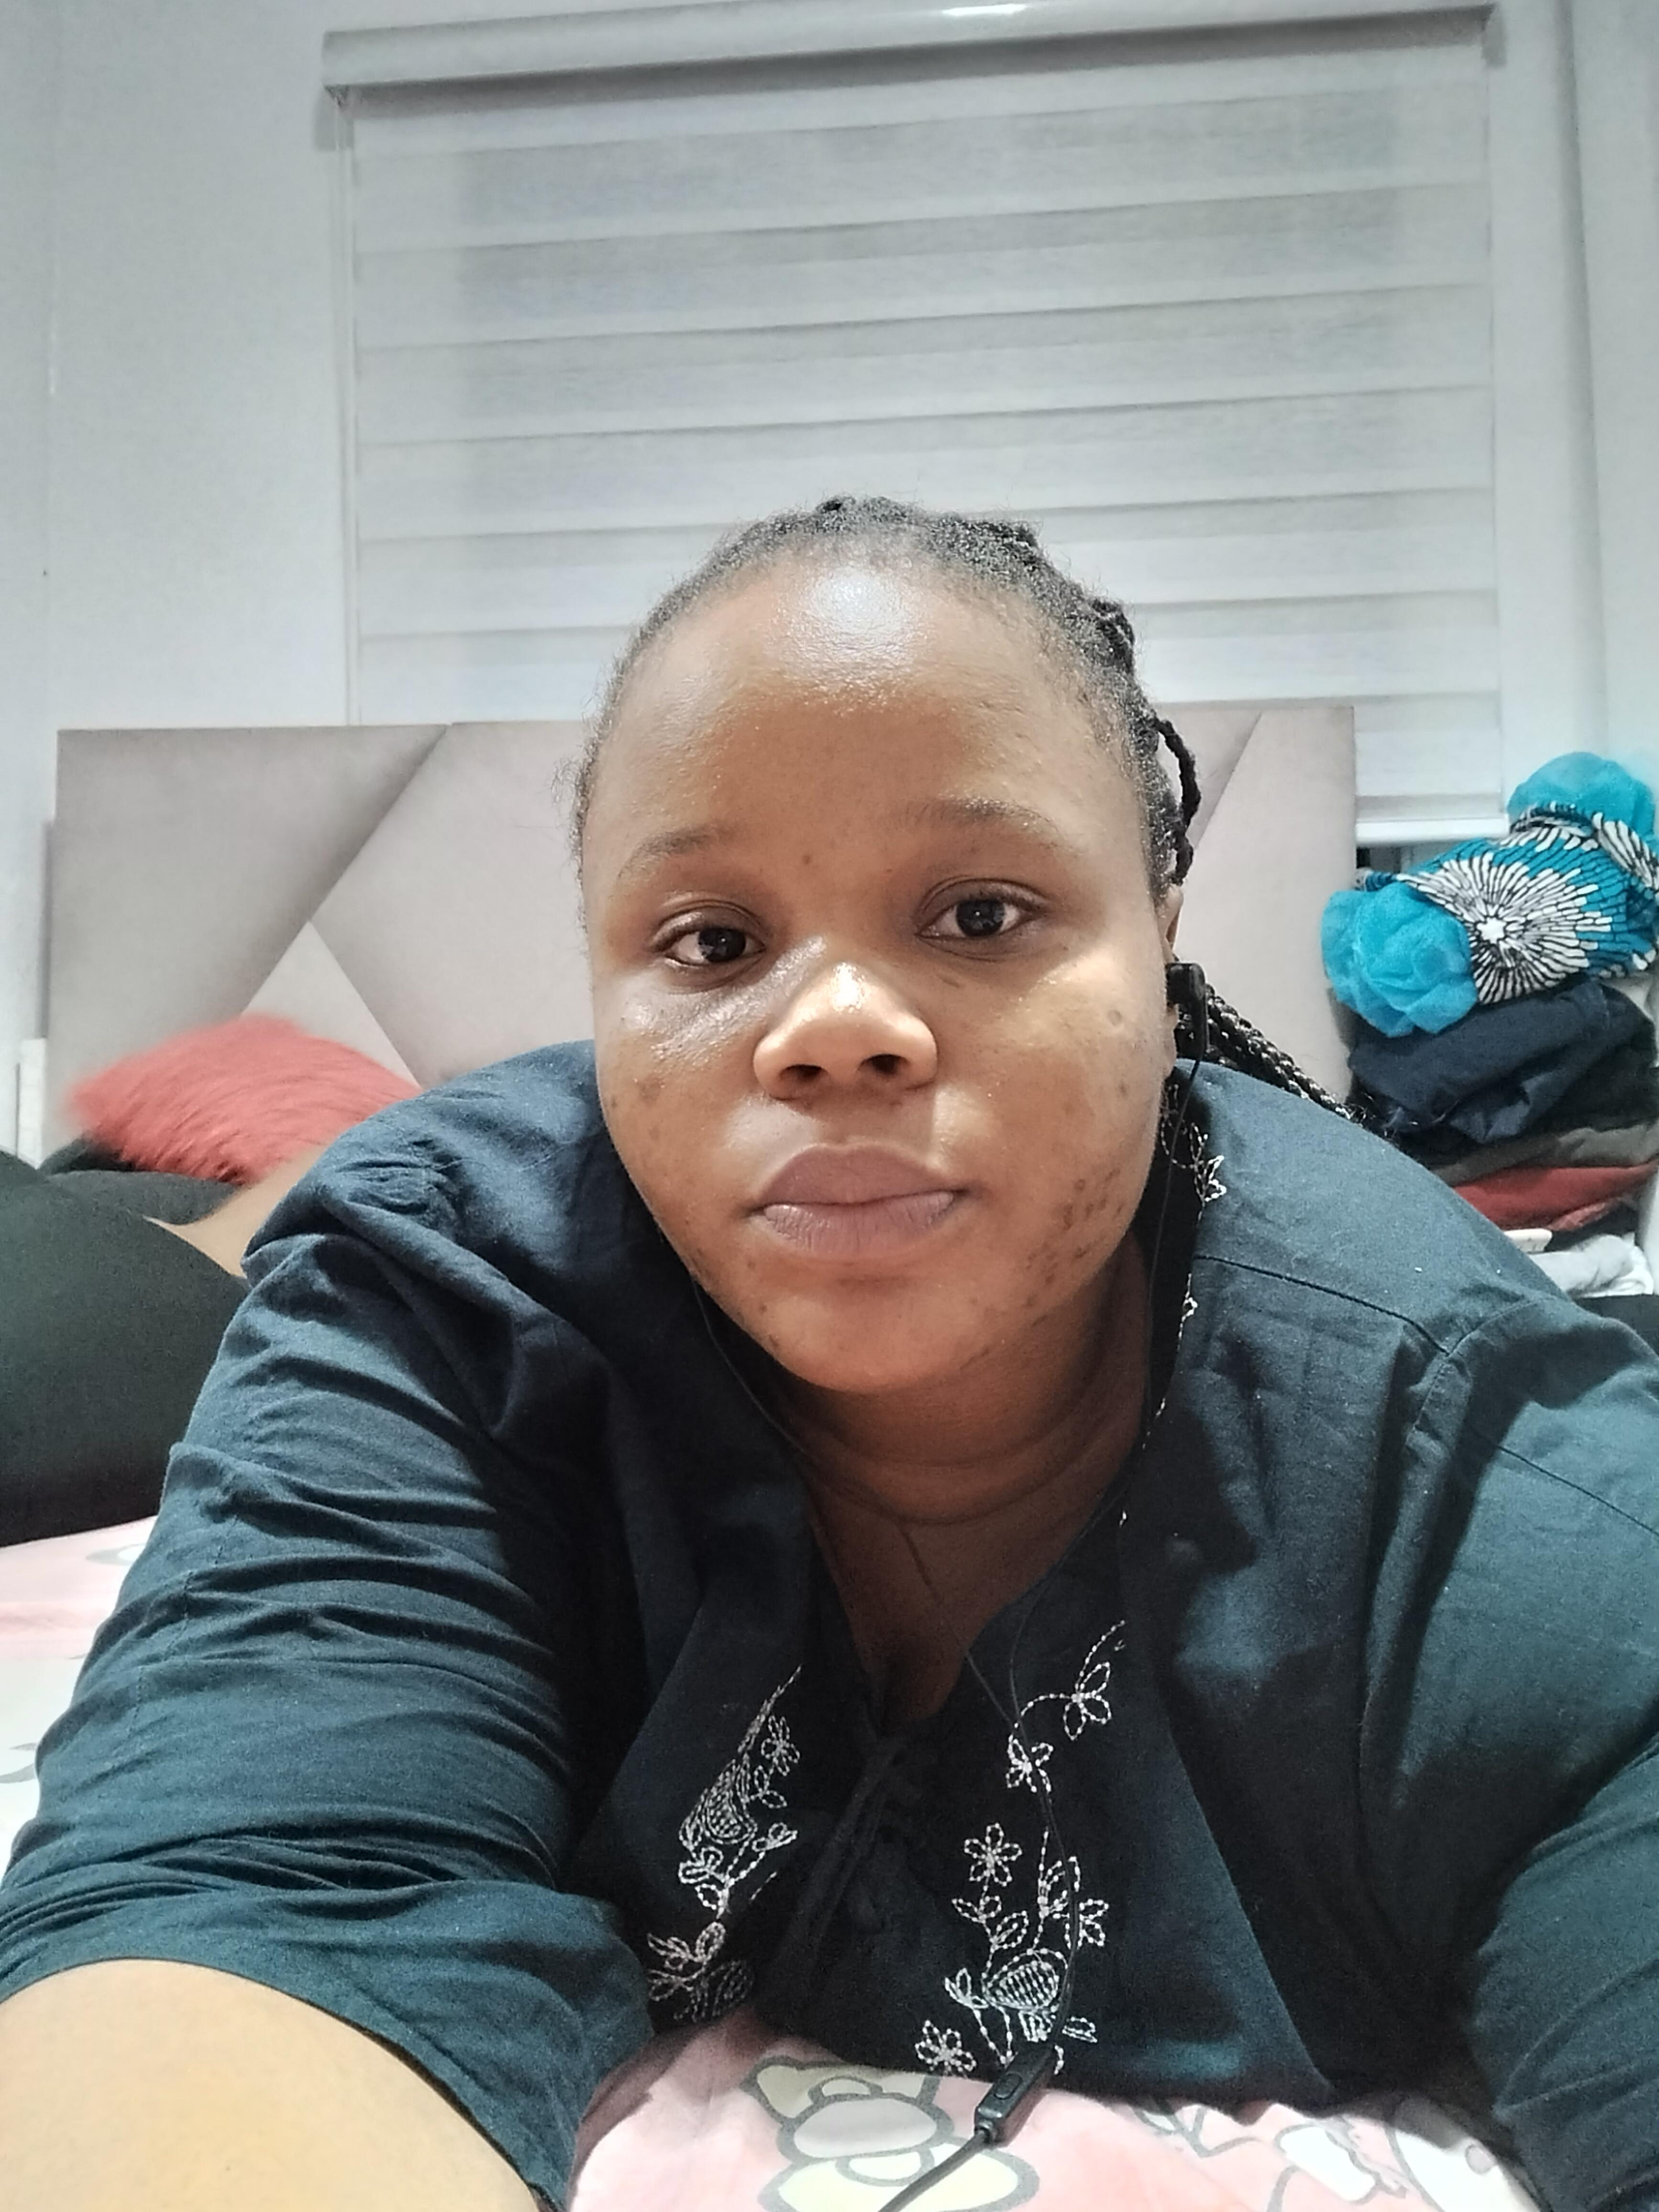Acne: (939, 965, 974, 996), (1065, 1165, 1100, 1195), (636, 1076, 667, 1106), (958, 1343, 988, 1372), (1023, 745, 1051, 777), (1025, 1242, 1054, 1270), (653, 801, 685, 826), (1066, 1238, 1100, 1261), (1100, 1169, 1136, 1188), (884, 1097, 911, 1120), (648, 1042, 680, 1061), (1023, 1287, 1040, 1320), (788, 1099, 821, 1116), (1079, 1202, 1101, 1226), (601, 1090, 622, 1116), (793, 850, 821, 869), (1056, 1205, 1079, 1228), (763, 1327, 782, 1353), (690, 1231, 709, 1258), (1115, 1073, 1133, 1101), (990, 747, 1014, 766), (985, 775, 1012, 791), (645, 1125, 662, 1150), (741, 1254, 760, 1270), (1110, 1202, 1124, 1223), (1044, 1270, 1054, 1294), (755, 1305, 770, 1313)
Englarged-Pores: (948, 1024, 1006, 1082)
